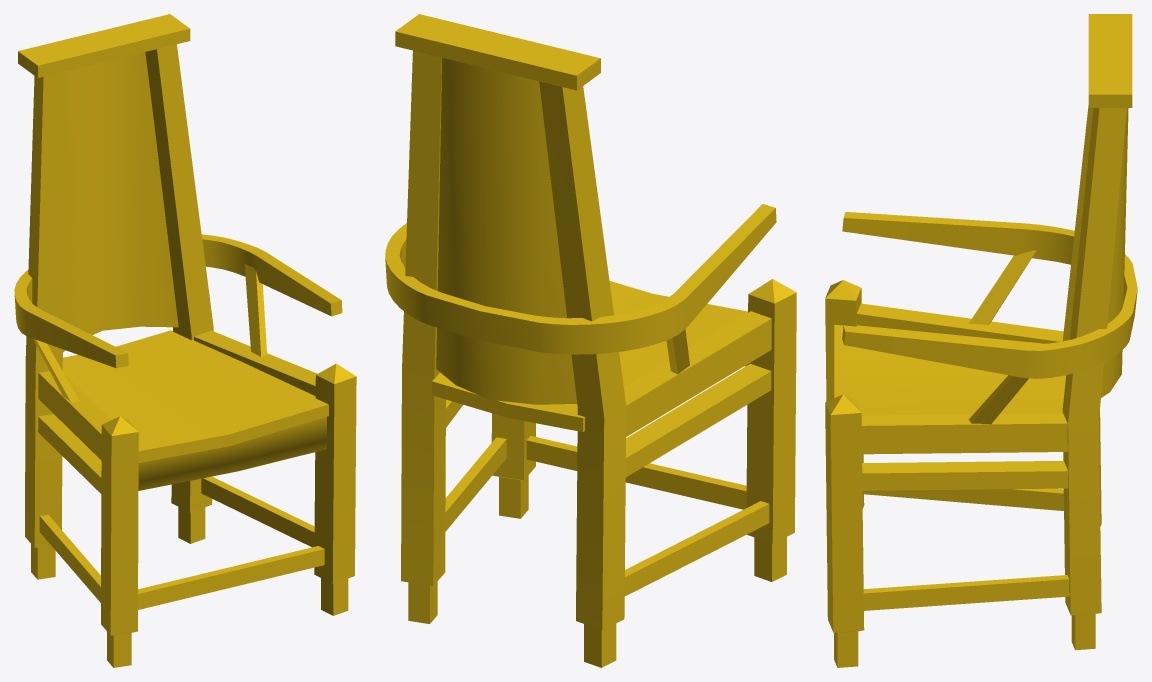
Rendered from CHAIR 1.glb.
3 renders of one model, left to right at view 1: azimuth 30°, elevation 25°; view 2: azimuth 150°, elevation 25°; view 3: azimuth 270°, elevation 25°, orthographic. The views are drawn at different scales.
Visible parts, largest first — view 1: Prop_Chair_D; view 2: Prop_Chair_D; view 3: Prop_Chair_D.
Boxes of the visible parts, <box> form: Prop_Chair_D: <box>14,14,356,667</box>; Prop_Chair_D: <box>385,14,796,667</box>; Prop_Chair_D: <box>825,14,1137,667</box>.
Size of the model in its own units: 0.7181 by 1.42 by 0.7313.
